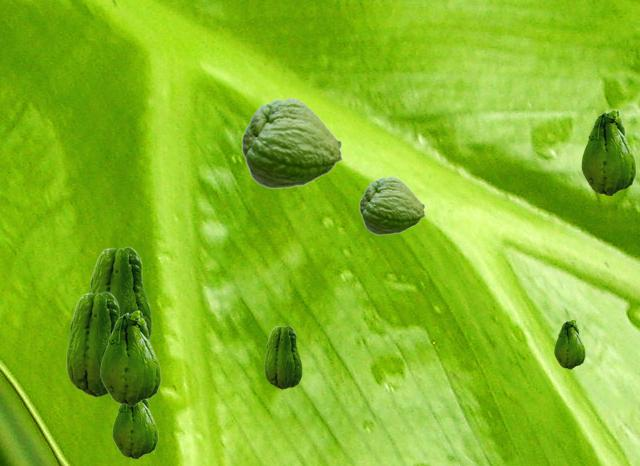sayote: (241, 97, 343, 188), (89, 246, 151, 338), (100, 310, 160, 405), (66, 291, 120, 396), (581, 109, 635, 195), (359, 176, 425, 234), (112, 400, 157, 458), (264, 325, 301, 388), (554, 319, 584, 368)
